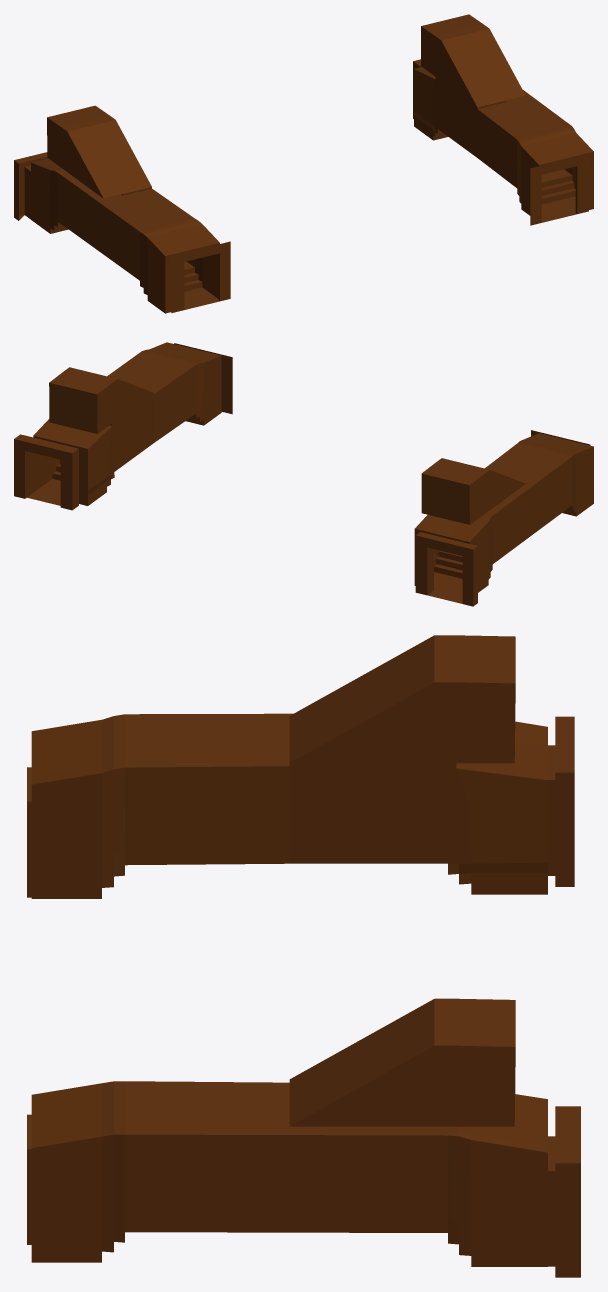
File: Bublll Tea.fbx
The picture shows the model from 3 angles, top to bottom: view 1: azimuth 30°, elevation 25°; view 2: azimuth 150°, elevation 25°; view 3: azimuth 270°, elevation 25°; orthographic projection. The views are drawn at different scales.
Visible parts, largest first — view 1: entrance inside.003; view 2: entrance inside.003; view 3: entrance inside.003.
Boxes of the visible parts, x1=… form: entrance inside.003: x1=14, y1=14, x2=593, y2=313; entrance inside.003: x1=14, y1=342, x2=593, y2=606; entrance inside.003: x1=27, y1=635, x2=580, y2=1277.
Bounding box in the file's own units: 2174 × 485 × 1140.
